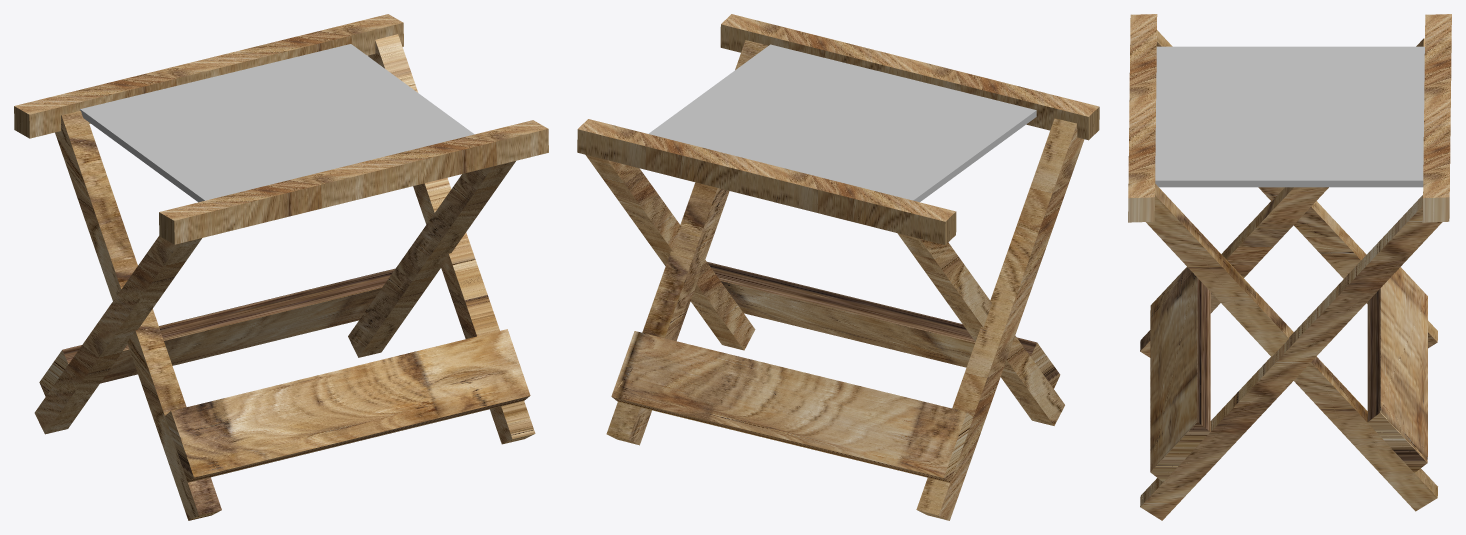
File: Banqueta.fbx
The picture shows the model from 3 angles, left to right: view 1: azimuth 30°, elevation 25°; view 2: azimuth 150°, elevation 25°; view 3: azimuth 270°, elevation 25°; orthographic projection. The views are drawn at different scales.
Parts seen in each view (by area): view 1: Cubo; view 2: Cubo; view 3: Cubo.
Part boxes in pixels (x1,y1,x2,y2): Cubo: (14,14,548,520); Cubo: (577,14,1099,520); Cubo: (1128,14,1451,520).
Bounding box in the file's own units: 151 × 124 × 111.
